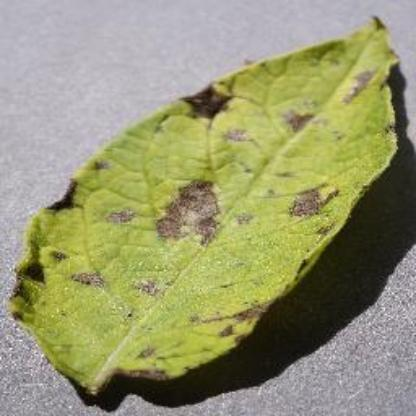Early-Blight: (8, 0, 416, 404)
